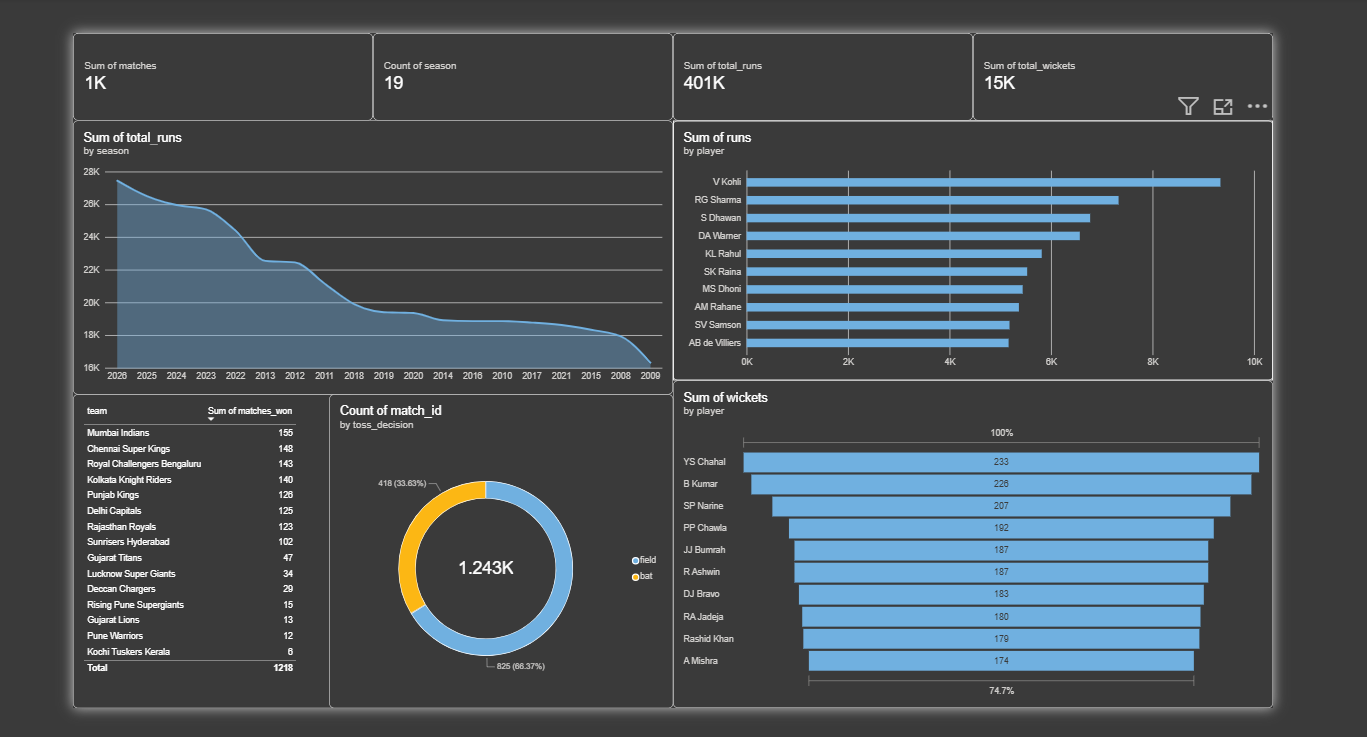

The dashboard page shown, as its layout file describes it:
{"tool":"powerbi","page":{"name":"Overall IPL Dashboard","canvas":[1920,1080],"ordinal":0},"visuals":[{"type":"cardVisual","fields":{"Data":["Sum(Fact_Season_Summary.matches)"]},"box":[0,0,480,140],"z":5},{"type":"cardVisual","fields":{"Data":["Count(Fact_Season_Summary.season)"]},"box":[480,0,480,140],"z":6},{"type":"cardVisual","fields":{"Data":["Sum(Fact_Season_Summary.total_runs)"]},"box":[960,0,480,140],"z":7},{"type":"cardVisual","fields":{"Data":["Sum(Fact_Season_Summary.total_wickets)"]},"box":[1440,0,480,140],"z":8},{"type":"areaChart","fields":{"Category":["Fact_Season_Summary.season"],"Y":["Sum(Fact_Season_Summary.total_runs)"]},"box":[0,140,960,438],"z":9},{"type":"clusteredBarChart","fields":{"Category":["Fact_Batting.player"],"Y":["Sum(Fact_Batting.runs)"]},"box":[960,140,960,416],"z":11},{"type":"funnel","fields":{"Category":["Fact_Bowling.player"],"Y":["Sum(Fact_Bowling.wickets)"]},"box":[960,556,960,524],"z":12},{"type":"tableEx","fields":{"Values":["Fact_Team_Performance.team","Sum(Fact_Team_Performance.matches_won)"]},"box":[0,578,448,502],"z":13},{"type":"donutChart","fields":{"Category":["Dim_Matches.toss_decision"],"Y":["CountNonNull(Dim_Matches.match_id)"]},"box":[410,578,550,502],"z":14}]}

Visuals, with their boxes on the page's 1920x1080 design canvas (x1, y1, x2, y2). These are canvas units, not pixel positions in the 1367x737 screenshot, which may show the page scaled, cropped or inside an application window:
cardVisual - Sum(Fact_Season_Summary.matches): locate(0, 0, 480, 140)
cardVisual - Count(Fact_Season_Summary.season): locate(480, 0, 960, 140)
cardVisual - Sum(Fact_Season_Summary.total_runs): locate(960, 0, 1440, 140)
cardVisual - Sum(Fact_Season_Summary.total_wickets): locate(1440, 0, 1920, 140)
areaChart - Fact_Season_Summary.season x Sum(Fact_Season_Summary.total_runs): locate(0, 140, 960, 578)
clusteredBarChart - Fact_Batting.player x Sum(Fact_Batting.runs): locate(960, 140, 1920, 556)
funnel - Fact_Bowling.player x Sum(Fact_Bowling.wickets): locate(960, 556, 1920, 1080)
tableEx - Fact_Team_Performance.team x Sum(Fact_Team_Performance.matches_won): locate(0, 578, 448, 1080)
donutChart - Dim_Matches.toss_decision x CountNonNull(Dim_Matches.match_id): locate(410, 578, 960, 1080)
